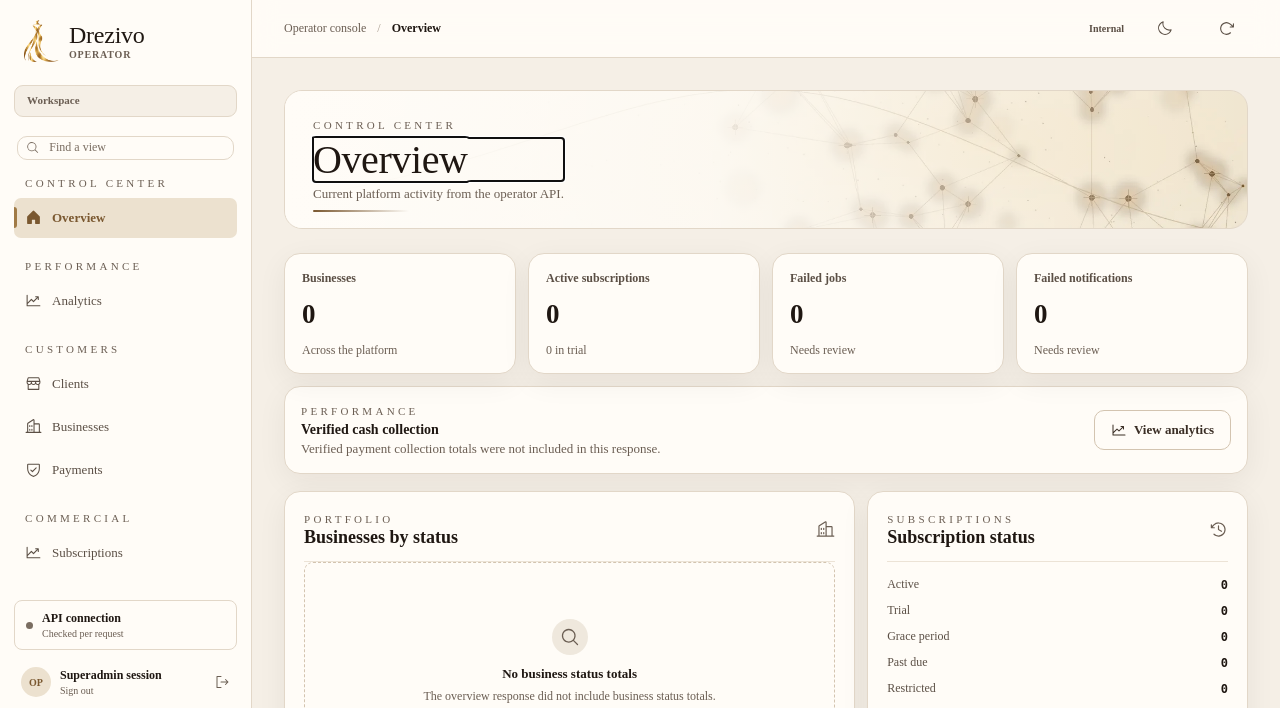
App Router console pages › shows a clearable no-match state when navigation search finds no view
Type "no such view" into the field named "Filter navigation". click: point(136, 148)
box: [47, 139, 225, 156]
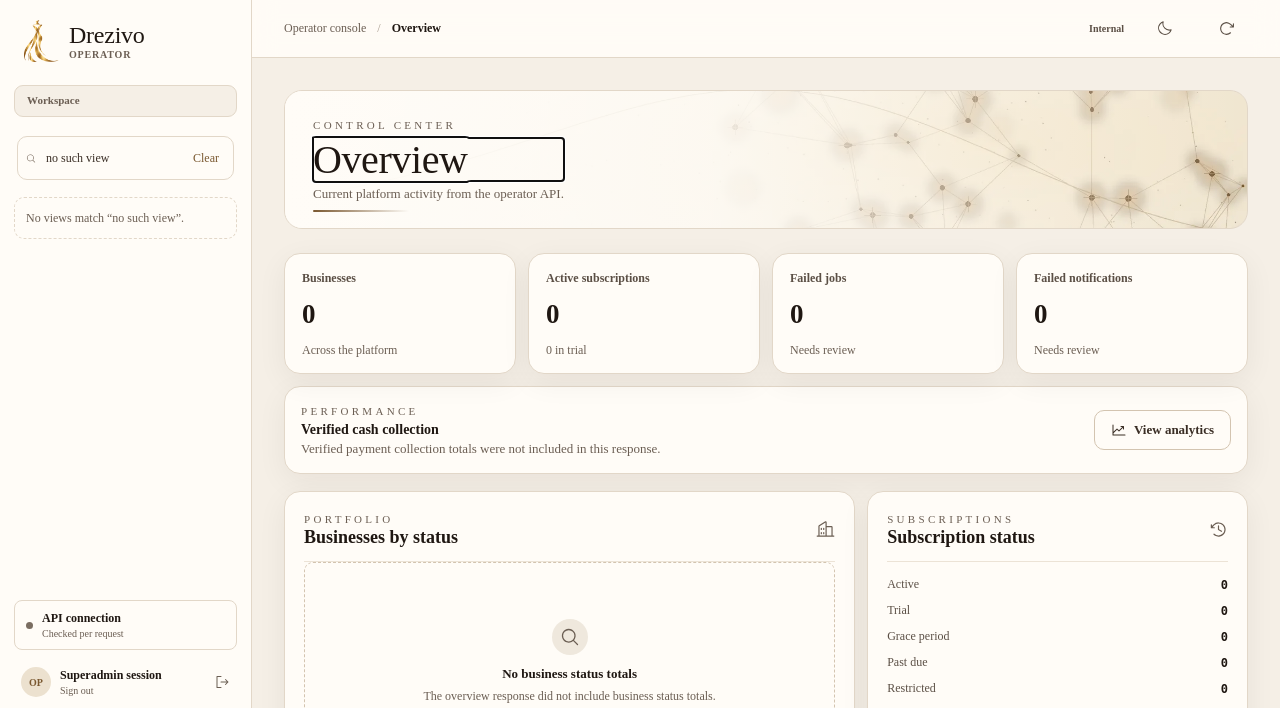
Result: the message reads "No views match “no such view”." at [14, 197, 237, 239]
Click the button with aria-label "Clear navigation filter". click: point(206, 158)
box: [187, 138, 225, 178]
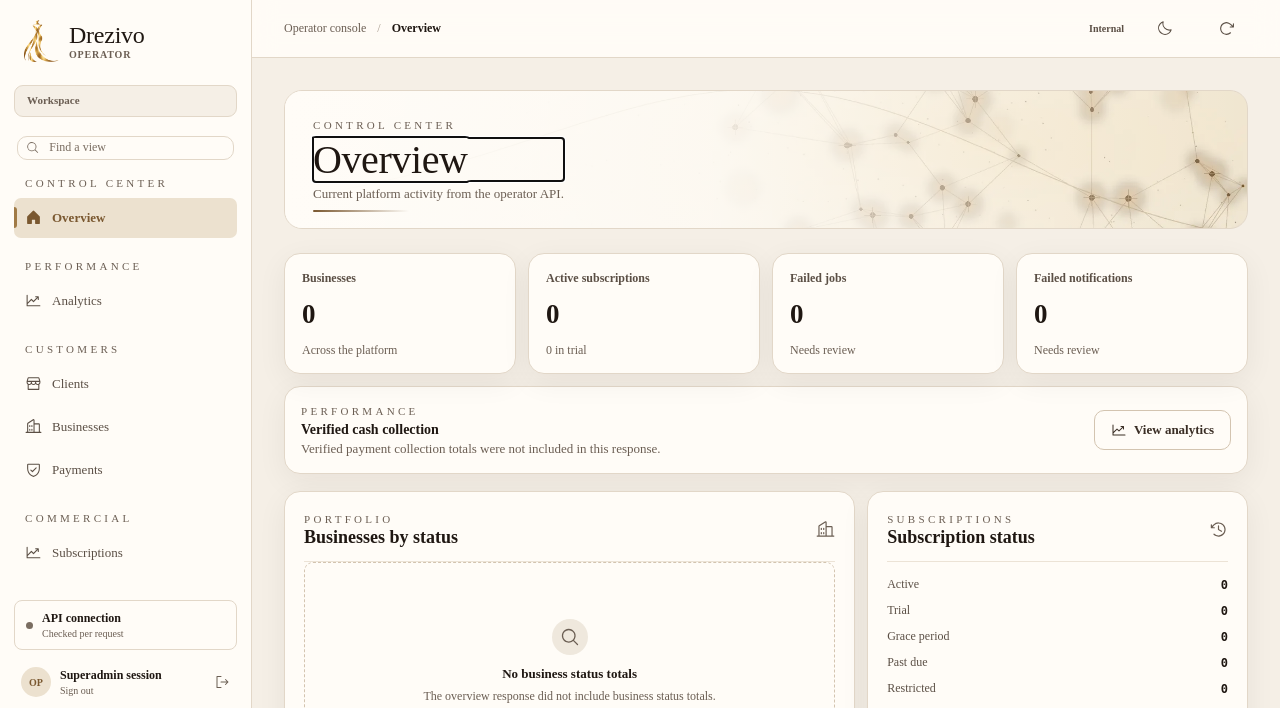
Result: the link "Overview" is shown at [14, 198, 237, 238]
Result: the text "No views match" is gone
